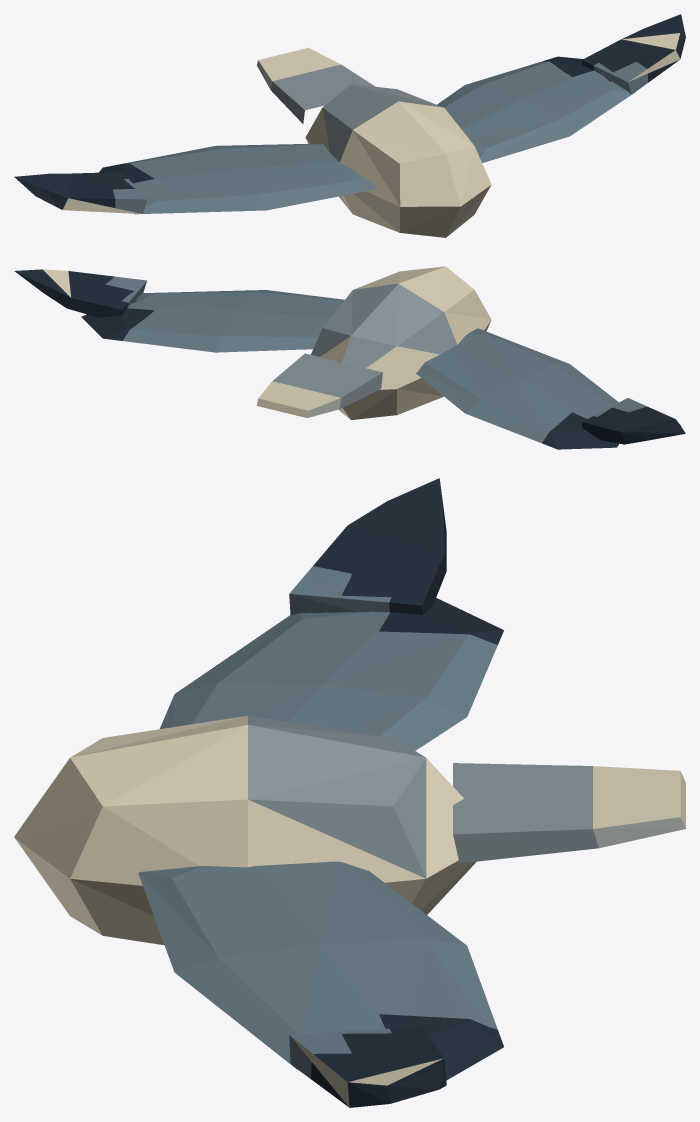
File: gull.glb
3 views of the same model, one above another, from view 1: azimuth 30°, elevation 25°; view 2: azimuth 150°, elevation 25°; view 3: azimuth 270°, elevation 25° (orthographic). The views are drawn at different scales.
Visible parts, largest first — view 1: Chest, RightWing, LeftWing; view 2: Chest, RightWing, LeftWing; view 3: Chest, LeftWing, RightWing.
Part boxes in pixels (x1,y1,x2,y2): Chest: (257, 48, 491, 237); RightWing: (14, 143, 376, 214); LeftWing: (437, 14, 685, 162); Chest: (257, 266, 491, 419); RightWing: (416, 328, 685, 449); LeftWing: (14, 269, 344, 352); Chest: (14, 715, 685, 945); LeftWing: (138, 861, 503, 1107); RightWing: (160, 478, 503, 750).
Bounding box in the file's own units: 2.27 × 0.388 × 1.05.
